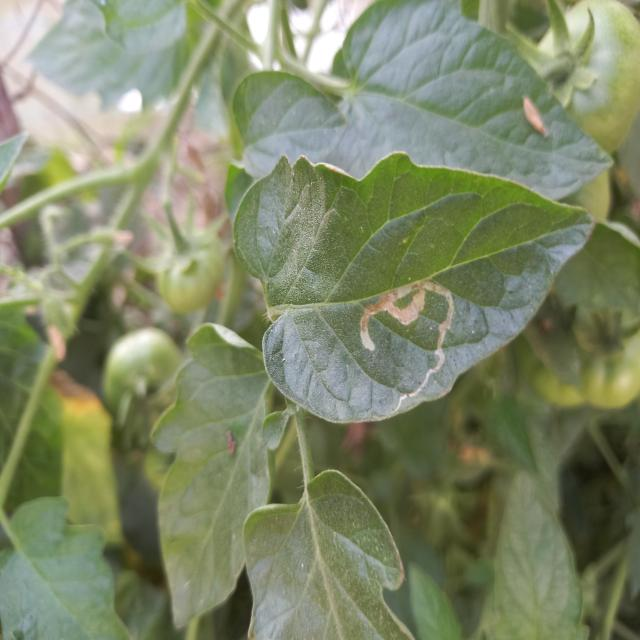Tuta absoluta: (345, 259, 486, 400)
